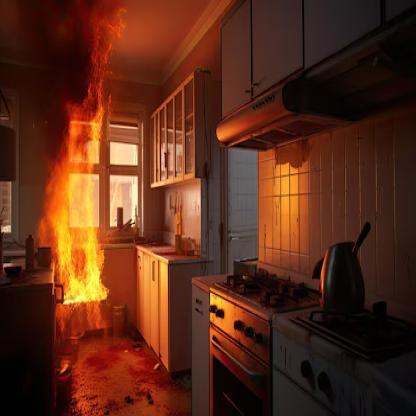fire: (41, 2, 125, 318)
smoke: (0, 0, 88, 158)
